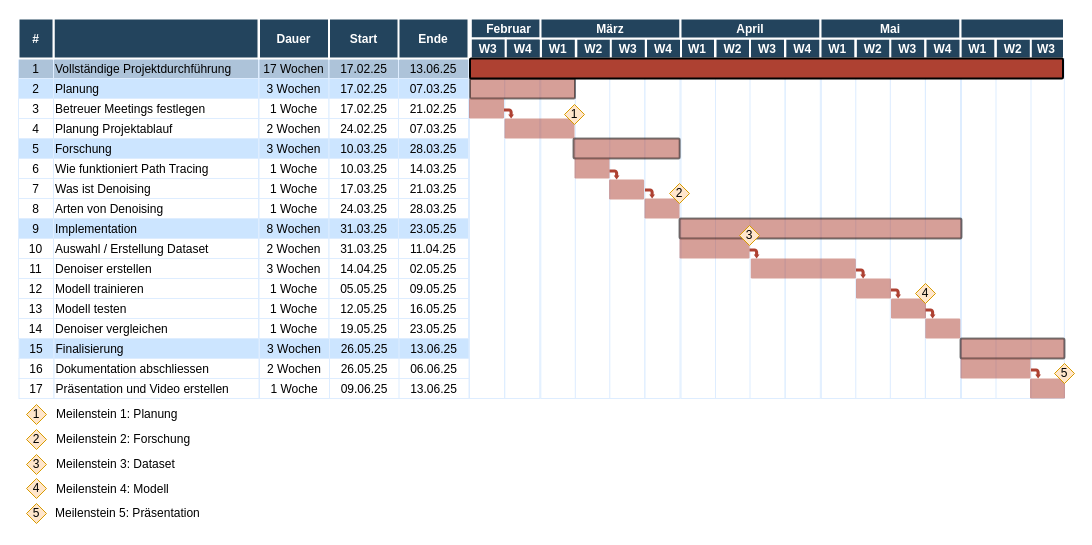
The diagram is 1092 pixels wide and 545 high, and some of its shapes have lost their labels. Each missing label, with the centre of its shape:
"Aufgabe" belongs at point (155, 38).
"Juni" belongs at point (1011, 28).
